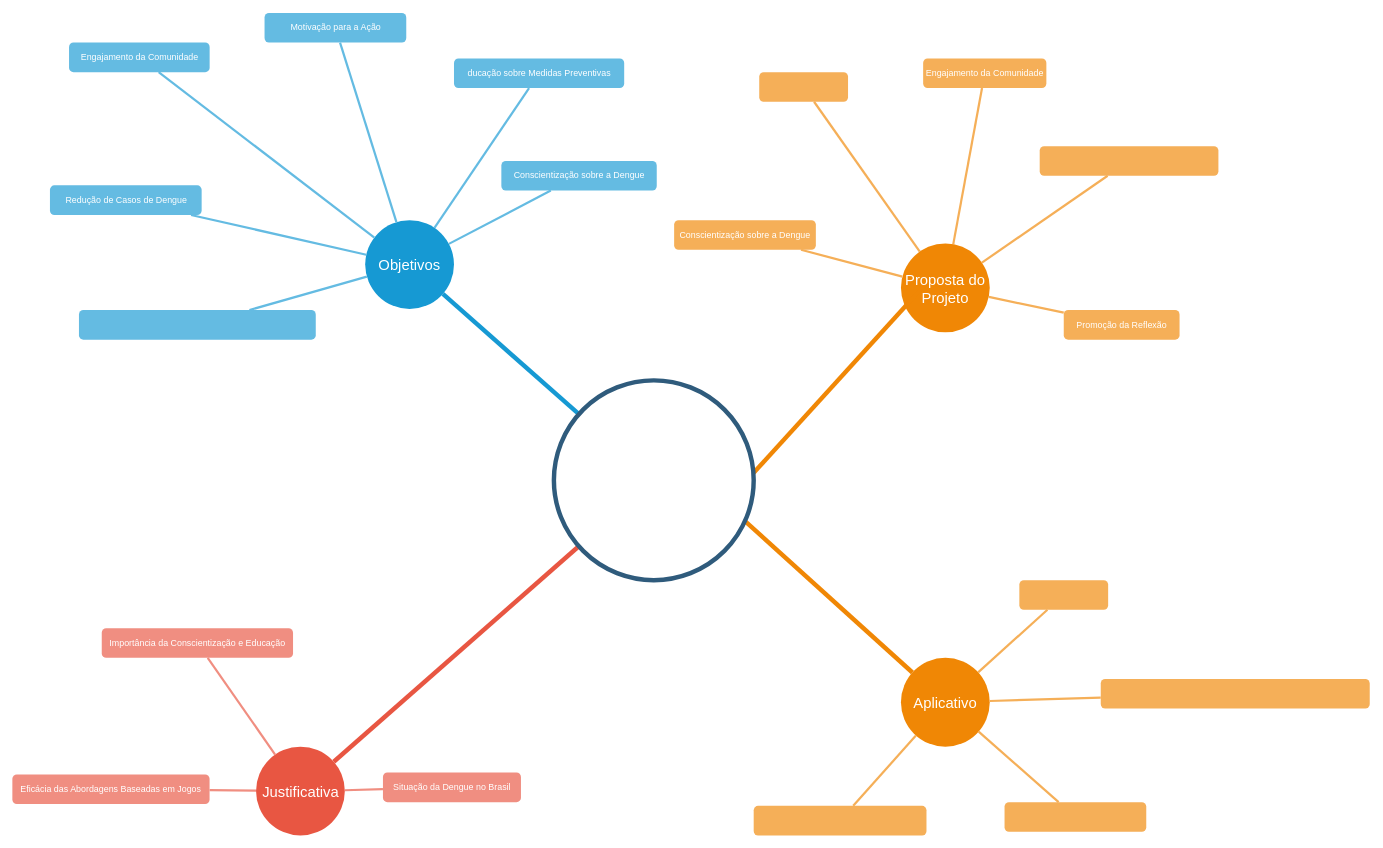
This 1383x848 diagram has some shape labels left out. Each missing label, with the centre of its shape:
Aplicativo de Encontrar o Par sobre Dengue: pixel 653 480
Conscientizar e educar sobre a prevenção da dengue: pixel 197 324
Educação Interativa: pixel 803 86
Incentivo à Mudança de Comportamento: pixel 1128 160
Mecânica: Encontrar o Par: pixel 1075 816
Plataforma: Mobile: pixel 1063 594
Recursos: Imagens, Textos Educativos, Recompensas Virtuais: pixel 1234 693
Temática: Dengue e Medidas Preventivas: pixel 839 820
